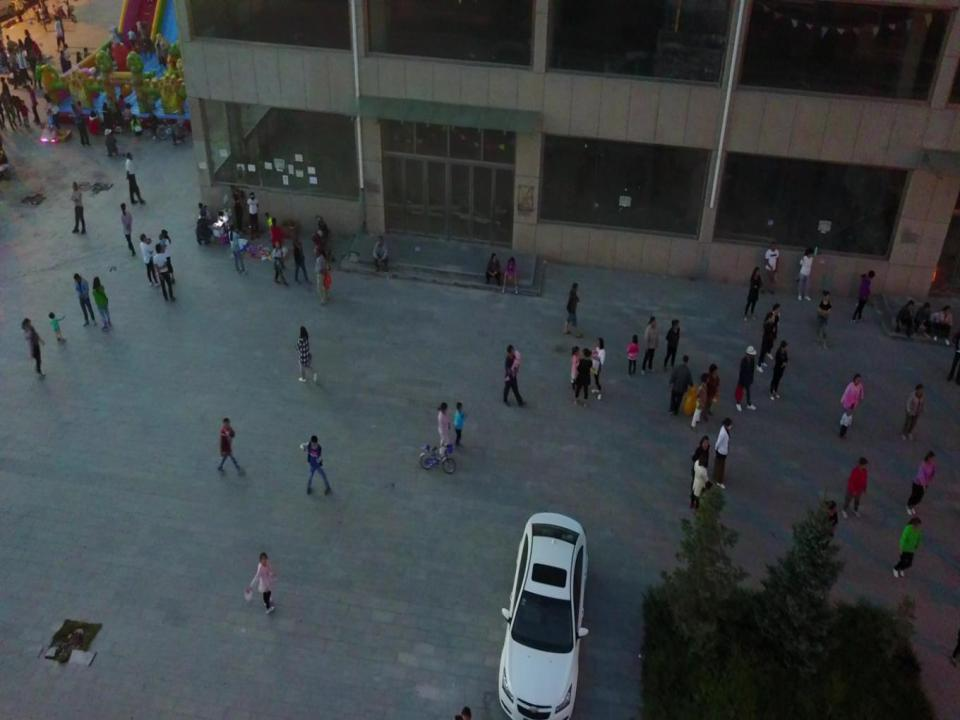car: (498, 511, 588, 720)
